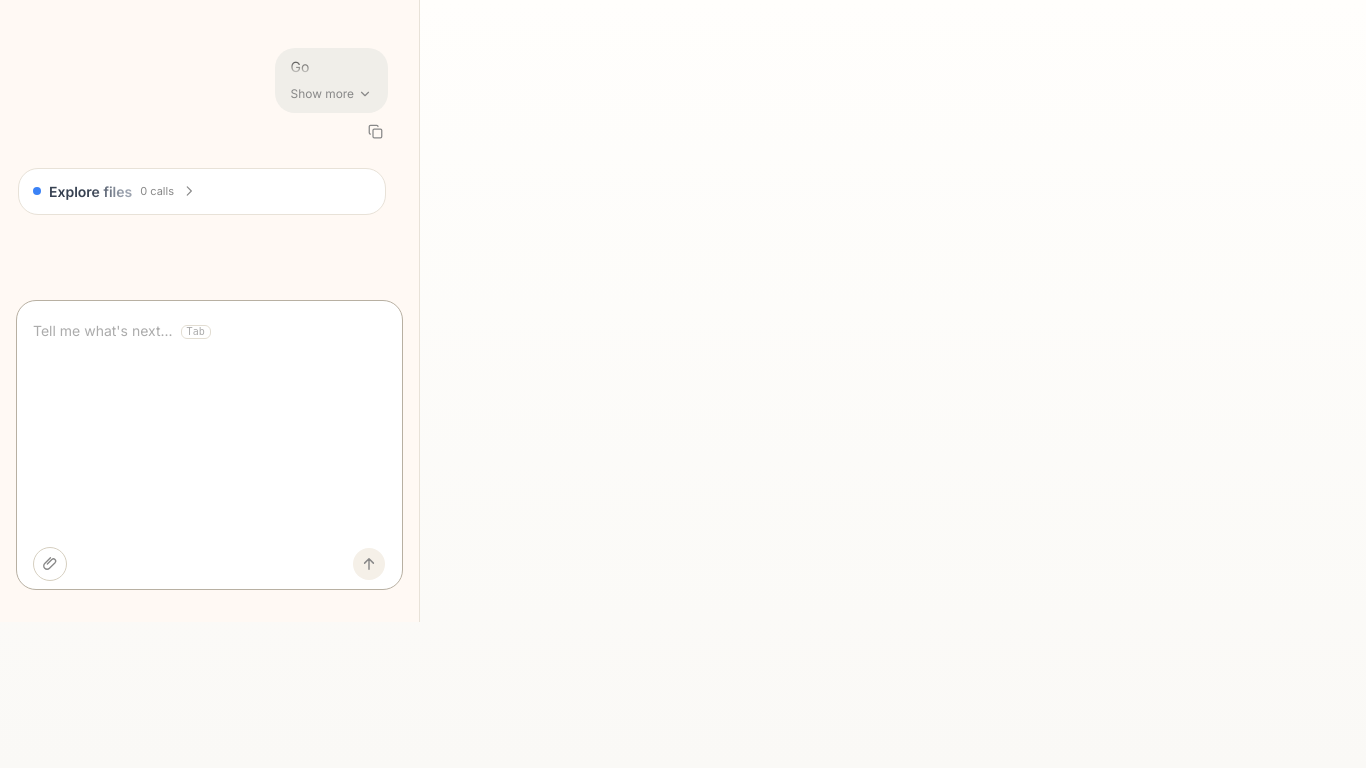
ChatPanel › presents the expanded subagent as a modal dialog over an inert transcript
The image size is (1366, 768).
Click the button "Explore files 0 calls" at coordinates (60, 192), box [18,168,386,215]
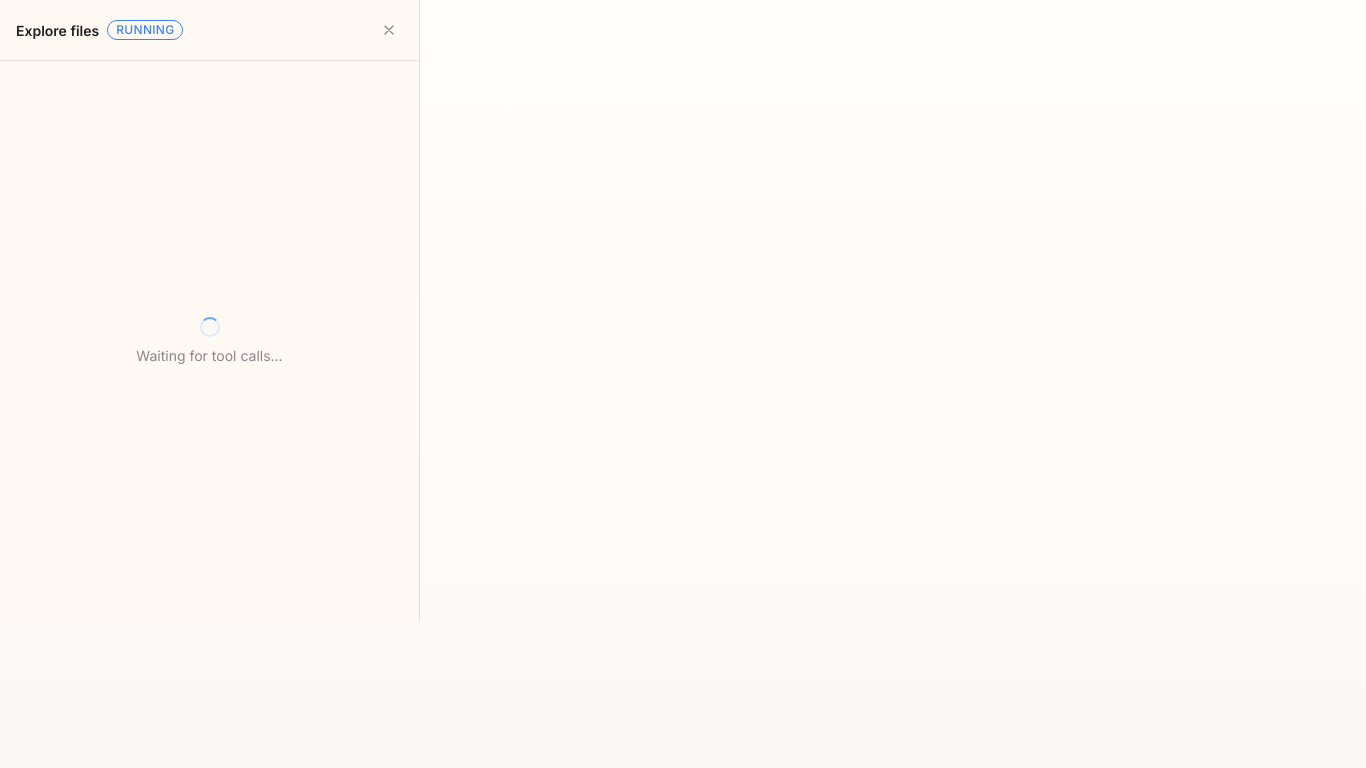
Expected: the element with class "chat-messages" has attribute inert, [18,48,388,215]
Expected: the element with class "chat-input-area" has attribute inert, [0,288,419,622]
Press Escape in the dialog, box [0,0,419,622]
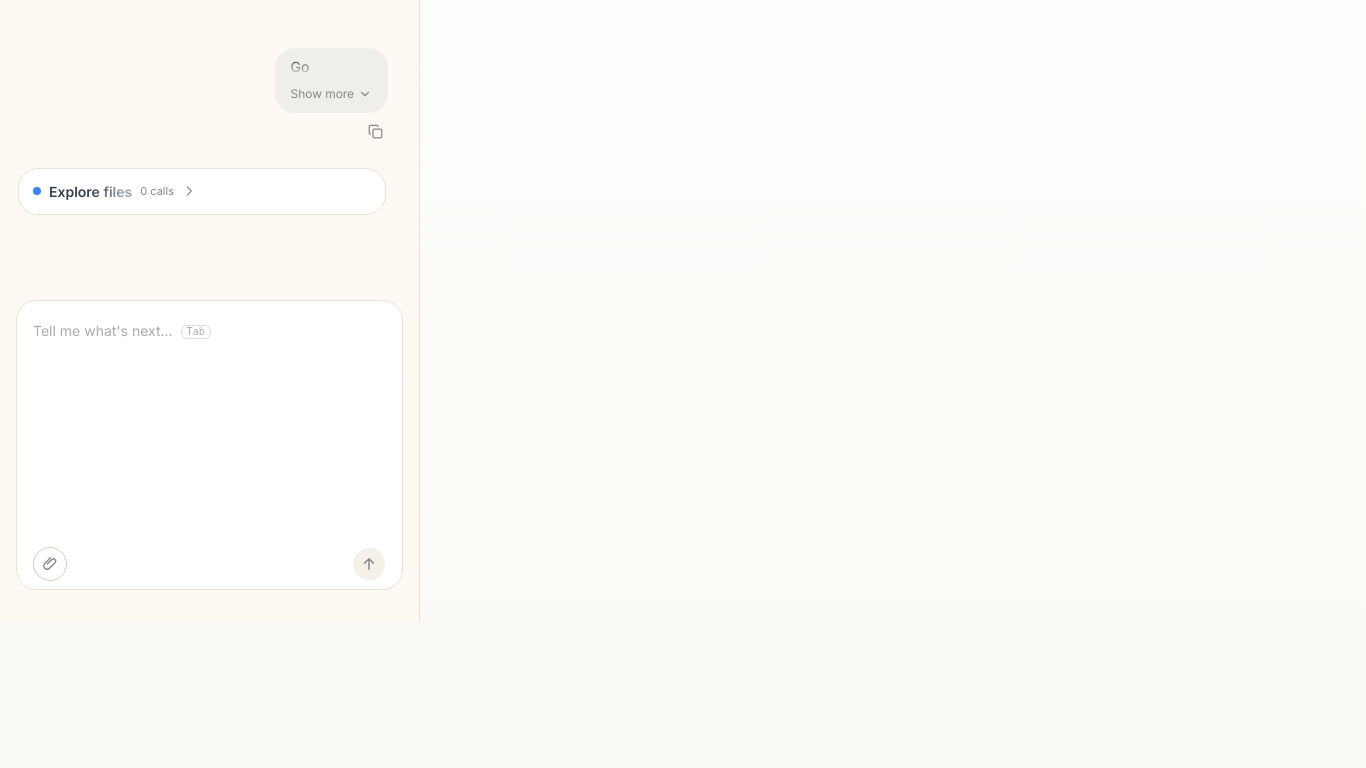
Expected: the dialog is gone
